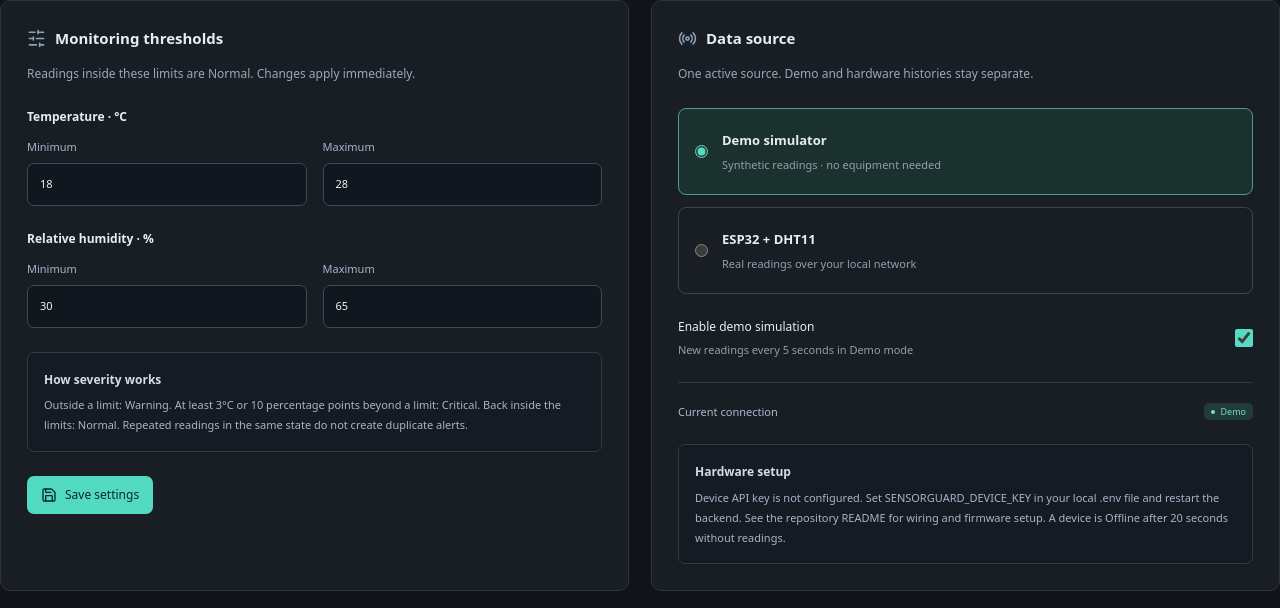
monitoring controls › rejects inverted thresholds before saving
Replace the text in the number field labelled "Minimum" below "Temperature · °C" with "35" at (167, 185), box [27, 163, 306, 206]
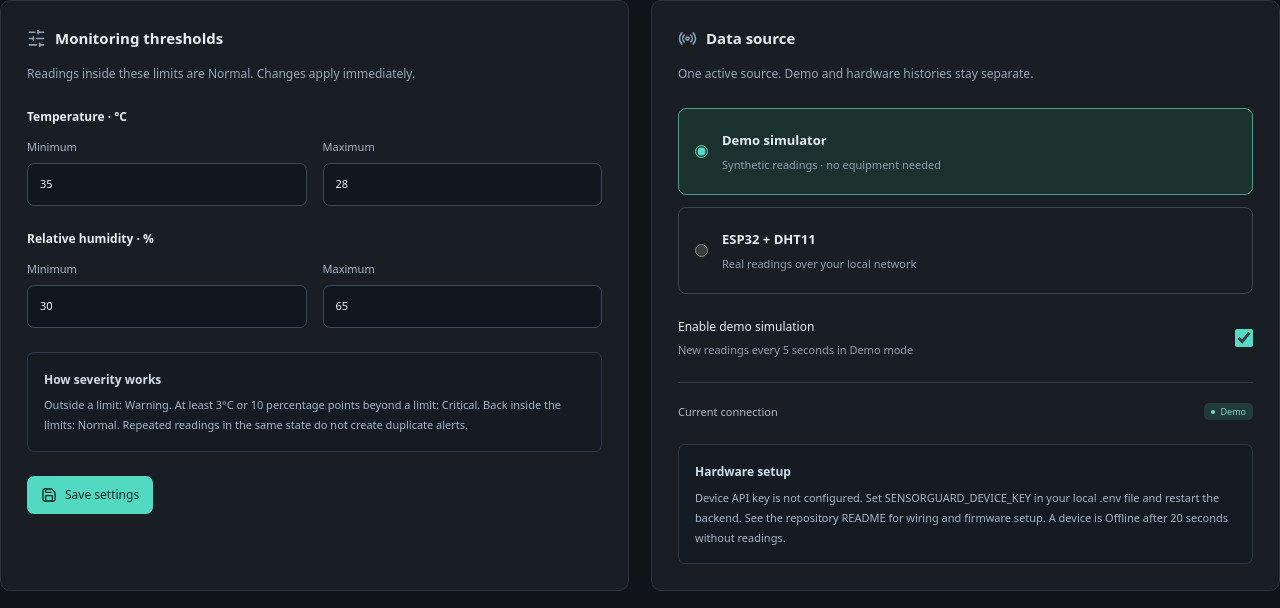
Click the button "Save settings".
click(90, 495)  # box [27, 476, 153, 514]
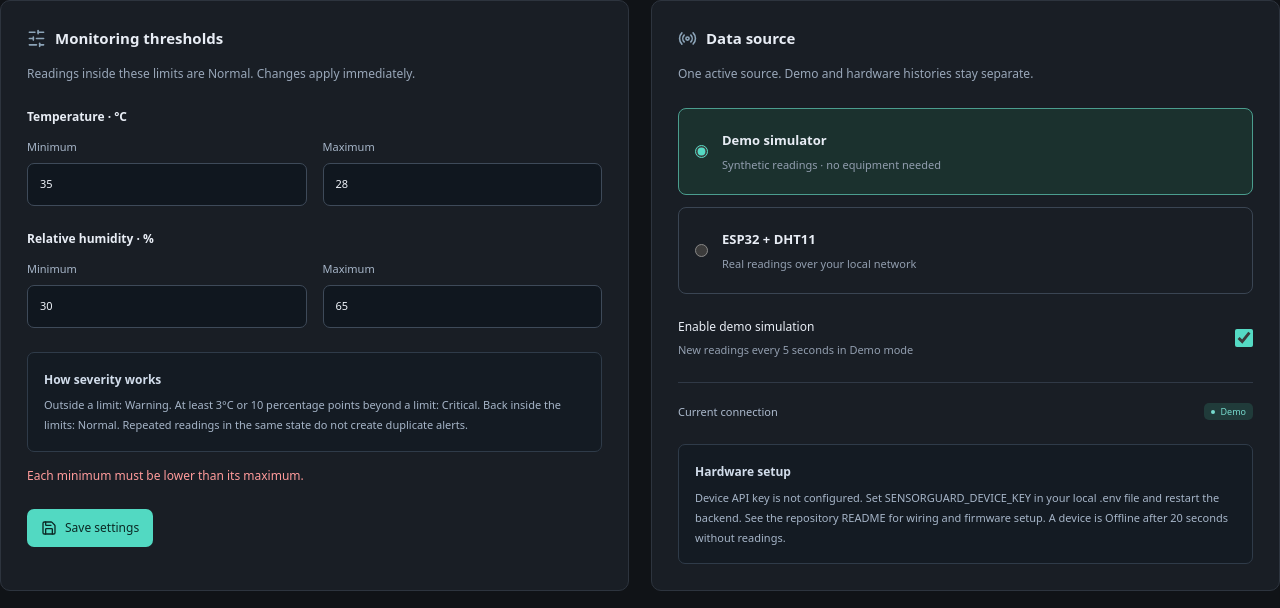
Check: the message shows "minimum must be lower", box [27, 467, 304, 484]
